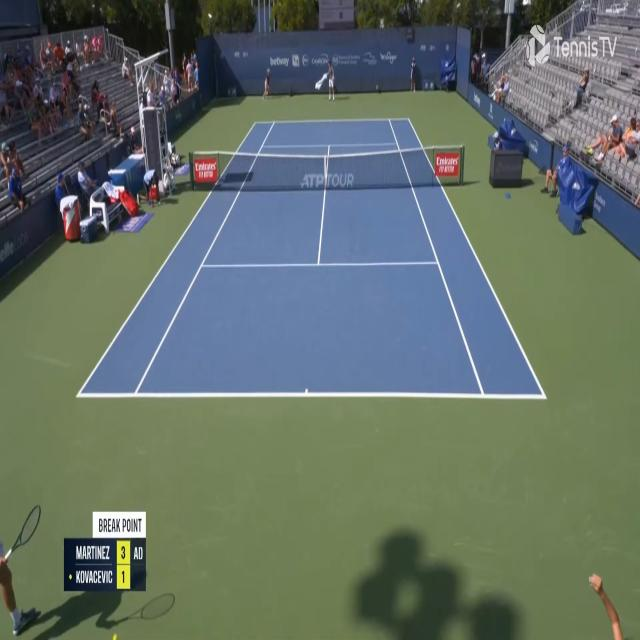tennis-player: (0, 495, 50, 639), (316, 59, 337, 102)
